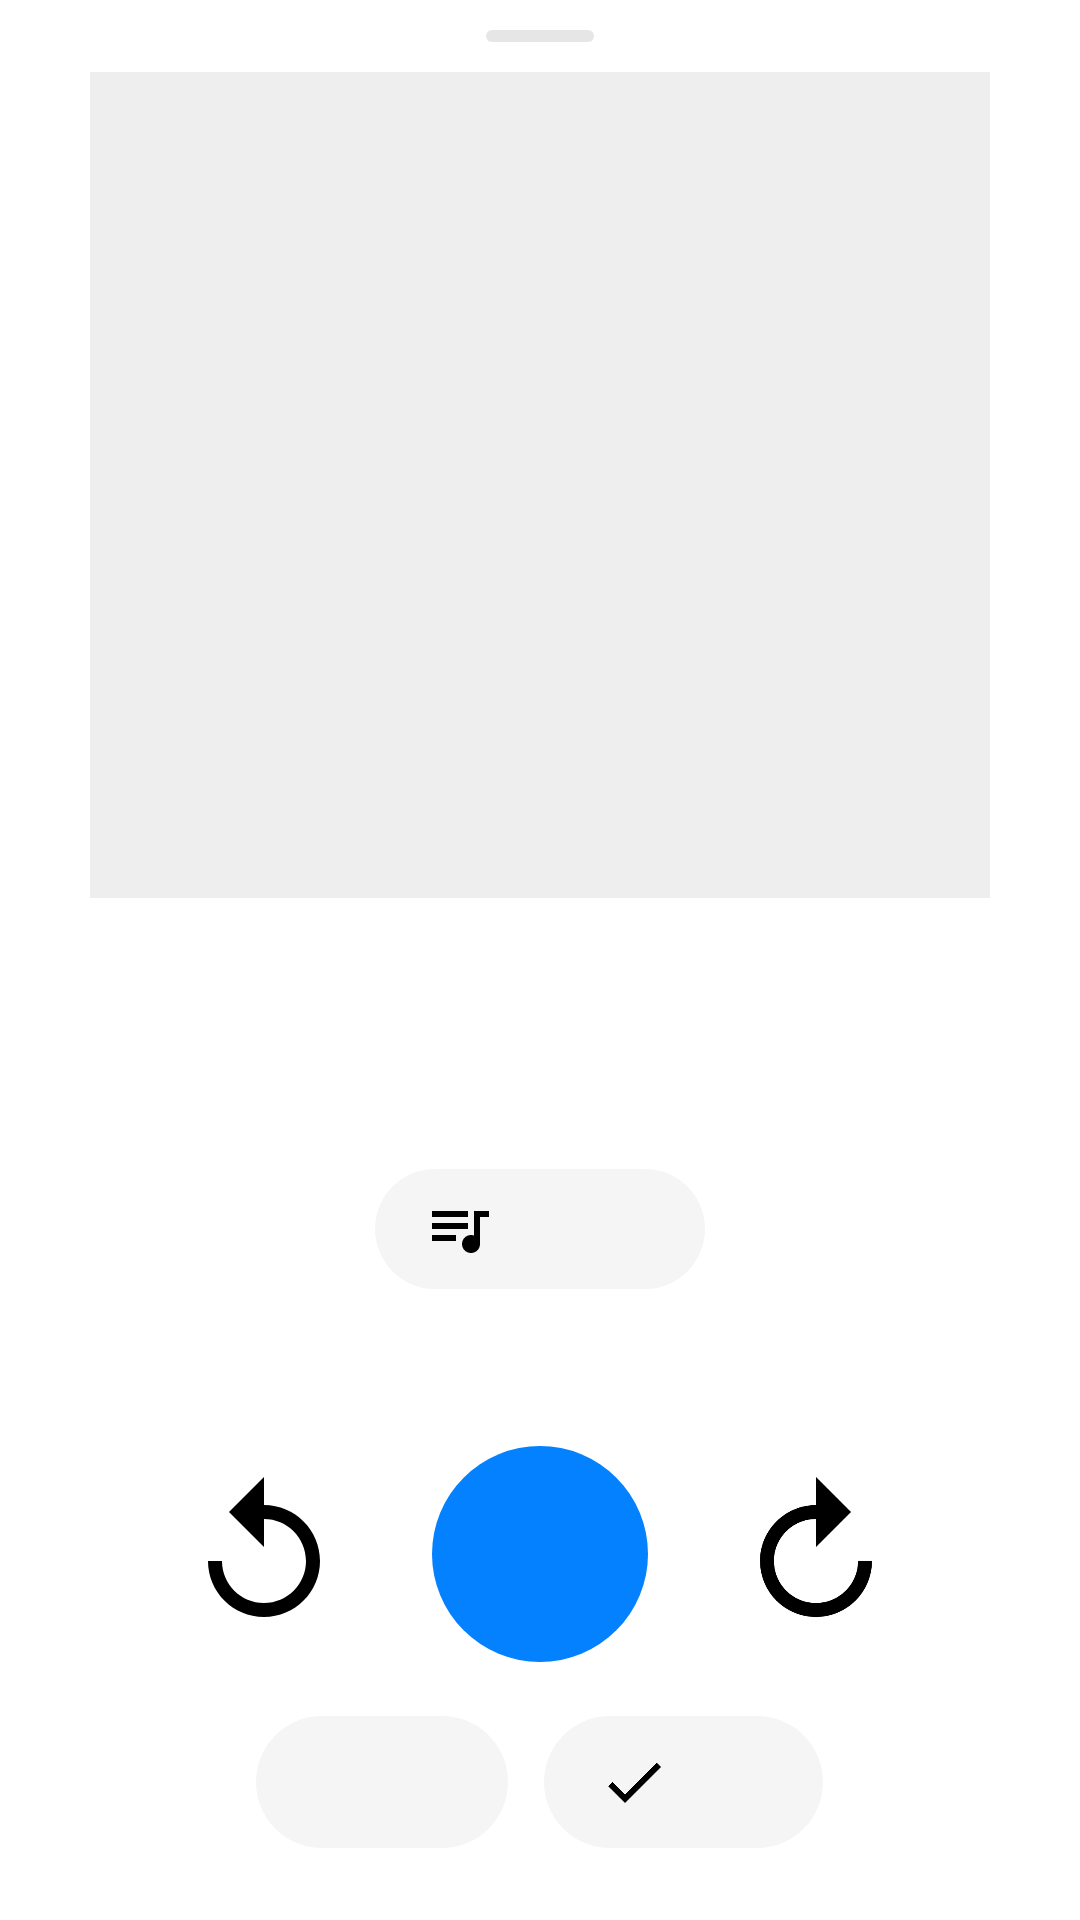

Icons on this 1080px×1920px Android screen, each with the point to tap as [x,y]:
Skip back 15 seconds: [264,1547]
Skip forward 30 seconds: [816,1547]
